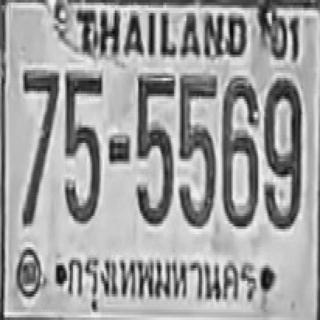N05: (177, 73, 216, 226), (135, 73, 174, 224), (64, 70, 102, 221)
N06: (221, 76, 258, 226)
N07: (21, 69, 58, 225), (22, 69, 59, 181)
N09: (263, 76, 301, 226)
P04: (63, 243, 260, 320)
